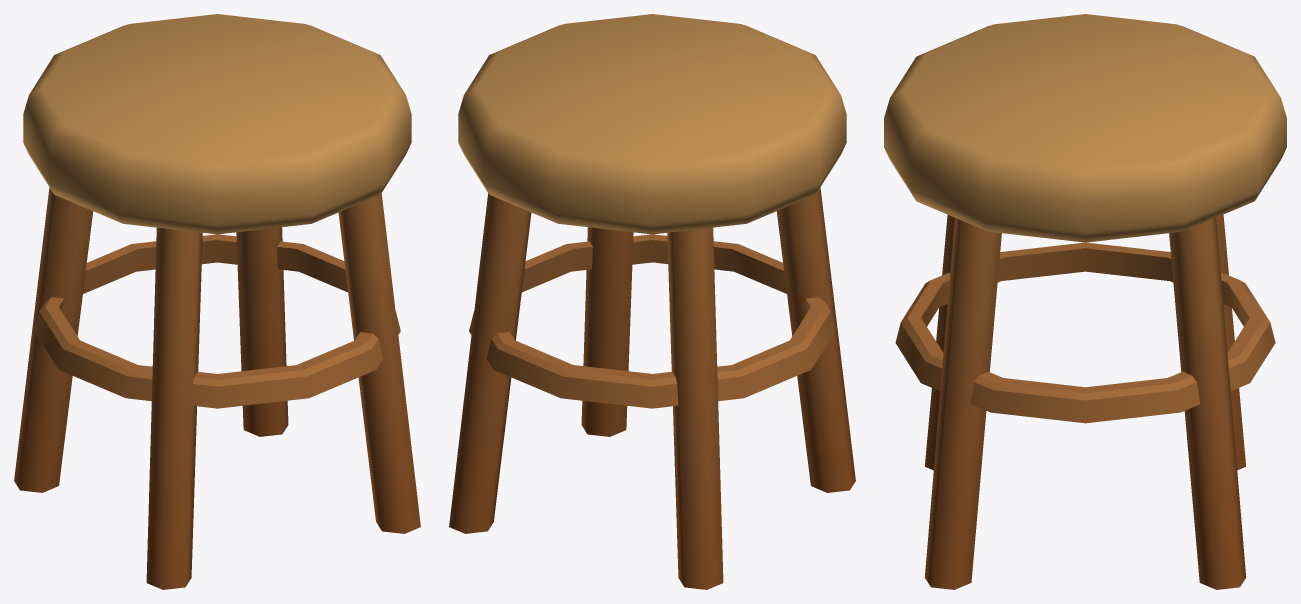
The model's file is Chair_1_B.fbx.
The picture shows the model from 3 angles, left to right: view 1: azimuth 30°, elevation 25°; view 2: azimuth 150°, elevation 25°; view 3: azimuth 270°, elevation 25°; orthographic projection. The views are drawn at different scales.
Visible parts, largest first — view 1: Chair_1_B; view 2: Chair_1_B; view 3: Chair_1_B.
Boxes of the visible parts, box(x1,y1,x2,y2) form: Chair_1_B: box(14, 14, 420, 589); Chair_1_B: box(449, 14, 855, 589); Chair_1_B: box(884, 14, 1286, 589).
Size of the model in its own units: 50.02 by 59.1 by 50.04.
